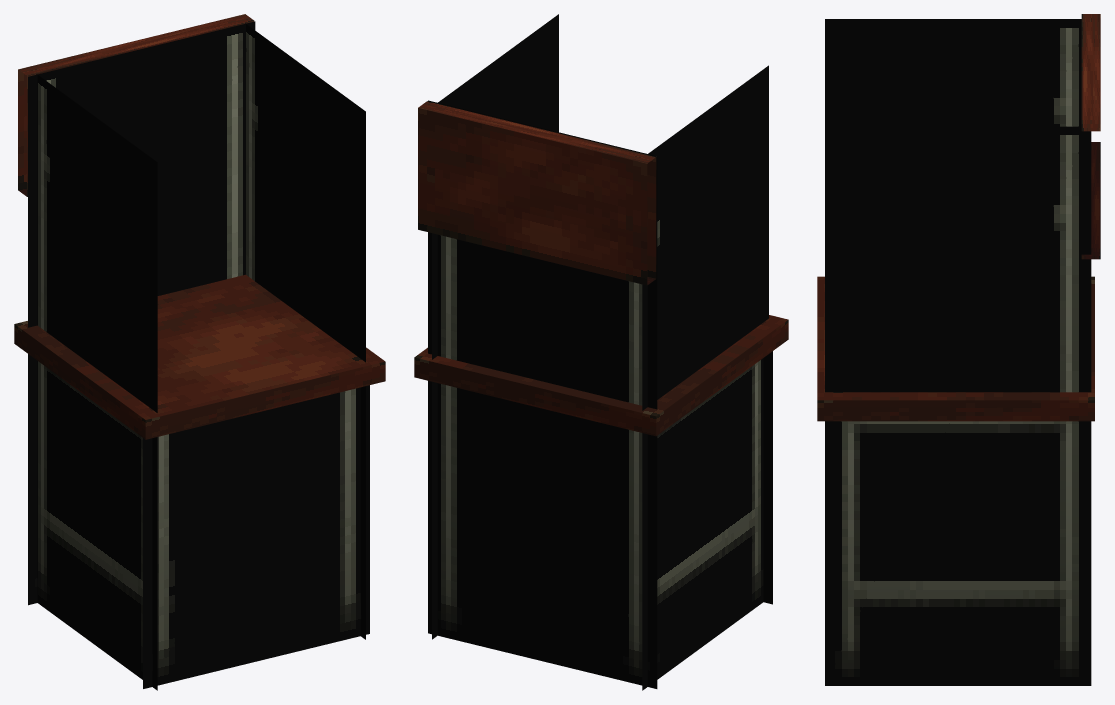
File: prop_chair-7.glb
The picture shows the model from 3 angles, left to right: view 1: azimuth 30°, elevation 25°; view 2: azimuth 150°, elevation 25°; view 3: azimuth 270°, elevation 25°; orthographic projection. The views are drawn at different scales.
Visible parts, largest first — view 1: prop_chair-7; view 2: prop_chair-7; view 3: prop_chair-7.
Boxes of the visible parts, left/top/right/bottom form: prop_chair-7: left=14, top=14, right=385, bottom=690; prop_chair-7: left=414, top=14, right=788, bottom=690; prop_chair-7: left=817, top=14, right=1100, bottom=685.
Size of the model in its own units: 0.3648 by 0.768 by 0.3528.
2 materials, 2 textured.
